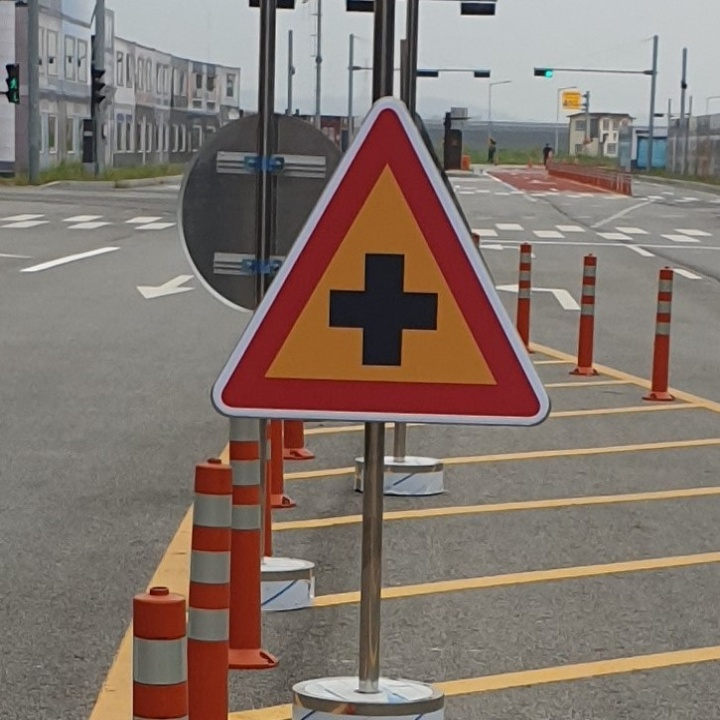inter: (317, 247, 445, 370)
